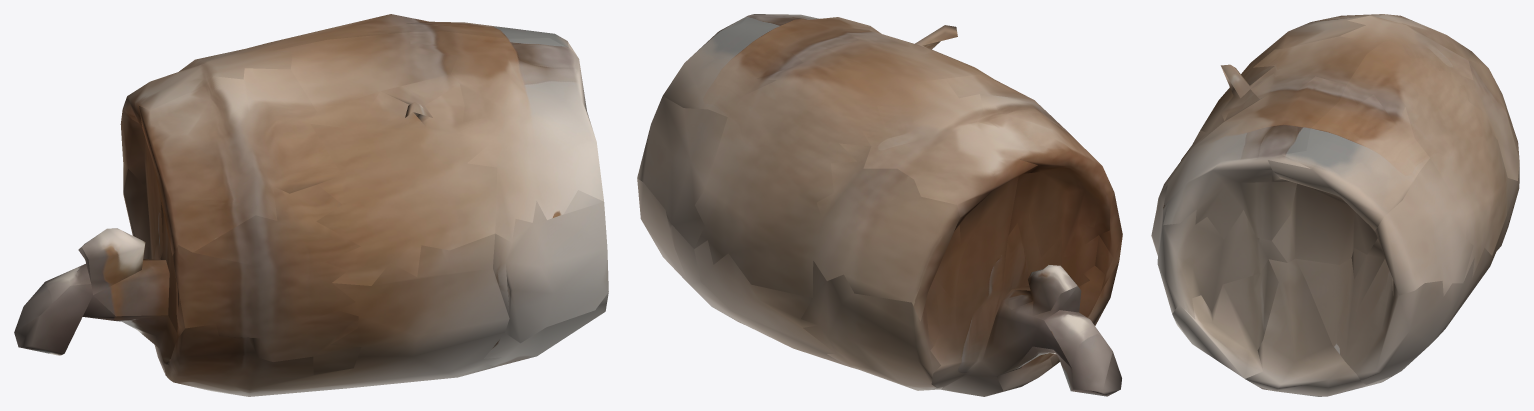
Rendered from Cistern.glb.
3 renders of one model, left to right at view 1: azimuth 30°, elevation 25°; view 2: azimuth 150°, elevation 25°; view 3: azimuth 270°, elevation 25°, orthographic. The views are drawn at different scales.
Visible parts, largest first — view 1: Cistern; view 2: Cistern; view 3: Cistern.
Part boxes in pixels (x1=…): Cistern: x1=14, y1=14, x2=608, y2=396; Cistern: x1=637, y1=14, x2=1122, y2=396; Cistern: x1=1151, y1=14, x2=1519, y2=396.
Bounding box in the file's own units: 0.9967 × 0.5902 × 0.6917.
Materials: 1 (1 with a texture image).
